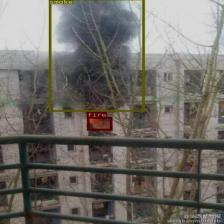fire: (86, 117, 112, 130)
smoke: (48, 0, 144, 111)
